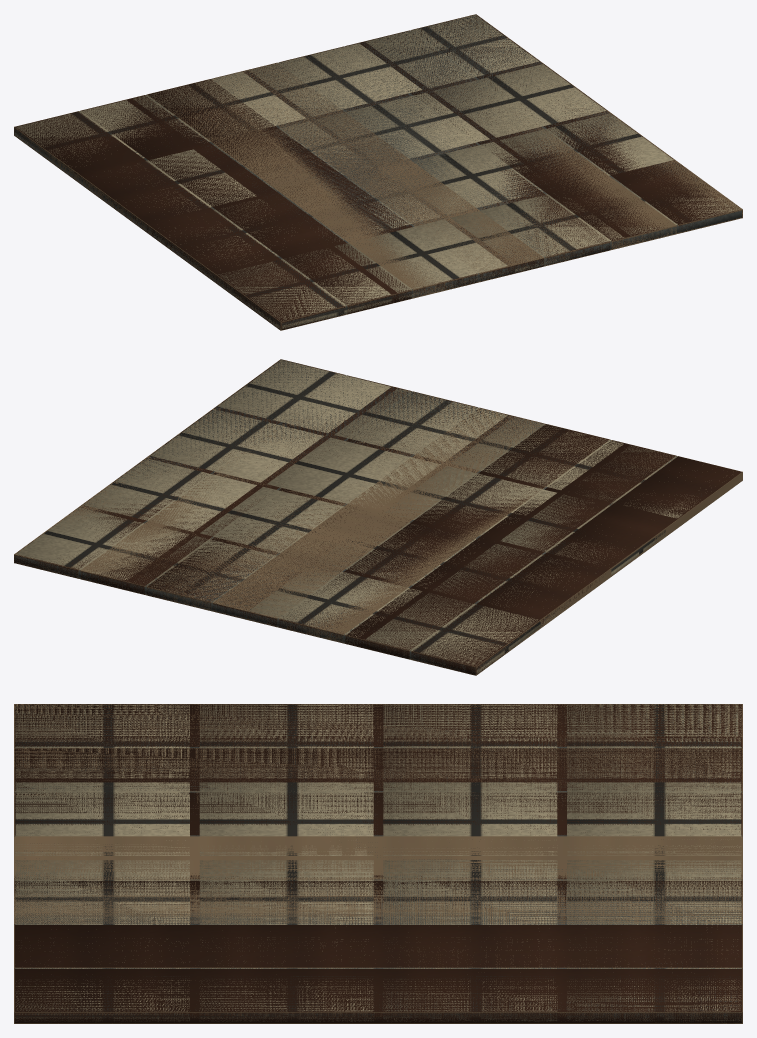
Rendered from asset_059_renovated_flooring_set.glb.
The picture shows the model from 3 angles, top to bottom: view 1: azimuth 30°, elevation 25°; view 2: azimuth 150°, elevation 25°; view 3: azimuth 270°, elevation 25°; orthographic projection. The views are drawn at different scales.
Parts seen in each view (by area): view 1: MESH_FloorCreamTileTileField, MESH_FloorDarkWoodPlankField, MESH_FloorOakPlankField, MESH_FloorGrayCarpetCarpetField; view 2: MESH_FloorCreamTileTileField, MESH_FloorDarkWoodPlankField, MESH_FloorOakPlankField, MESH_FloorGrayCarpetCarpetField; view 3: MESH_FloorDarkWoodPlankField, MESH_FloorCreamTileTileField, MESH_FloorOakPlankField, MESH_FloorGrayCarpetCarpetField.
Boxes of the visible parts, bbox=[...] form: MESH_FloorCreamTileTileField: bbox=[15, 15, 739, 328]; MESH_FloorDarkWoodPlankField: bbox=[14, 14, 742, 330]; MESH_FloorOakPlankField: bbox=[14, 14, 742, 330]; MESH_FloorGrayCarpetCarpetField: bbox=[14, 14, 741, 328]; MESH_FloorCreamTileTileField: bbox=[16, 360, 706, 672]; MESH_FloorDarkWoodPlankField: bbox=[14, 359, 741, 675]; MESH_FloorOakPlankField: bbox=[14, 359, 742, 675]; MESH_FloorGrayCarpetCarpetField: bbox=[15, 360, 676, 673]; MESH_FloorDarkWoodPlankField: bbox=[14, 704, 742, 1023]; MESH_FloorCreamTileTileField: bbox=[15, 704, 741, 1021]; MESH_FloorOakPlankField: bbox=[14, 704, 742, 1023]; MESH_FloorGrayCarpetCarpetField: bbox=[14, 704, 742, 1022].
Bounding box in the file's own units: 1 × 0.018 × 1.
Materials: 8 (7 with a texture image).
